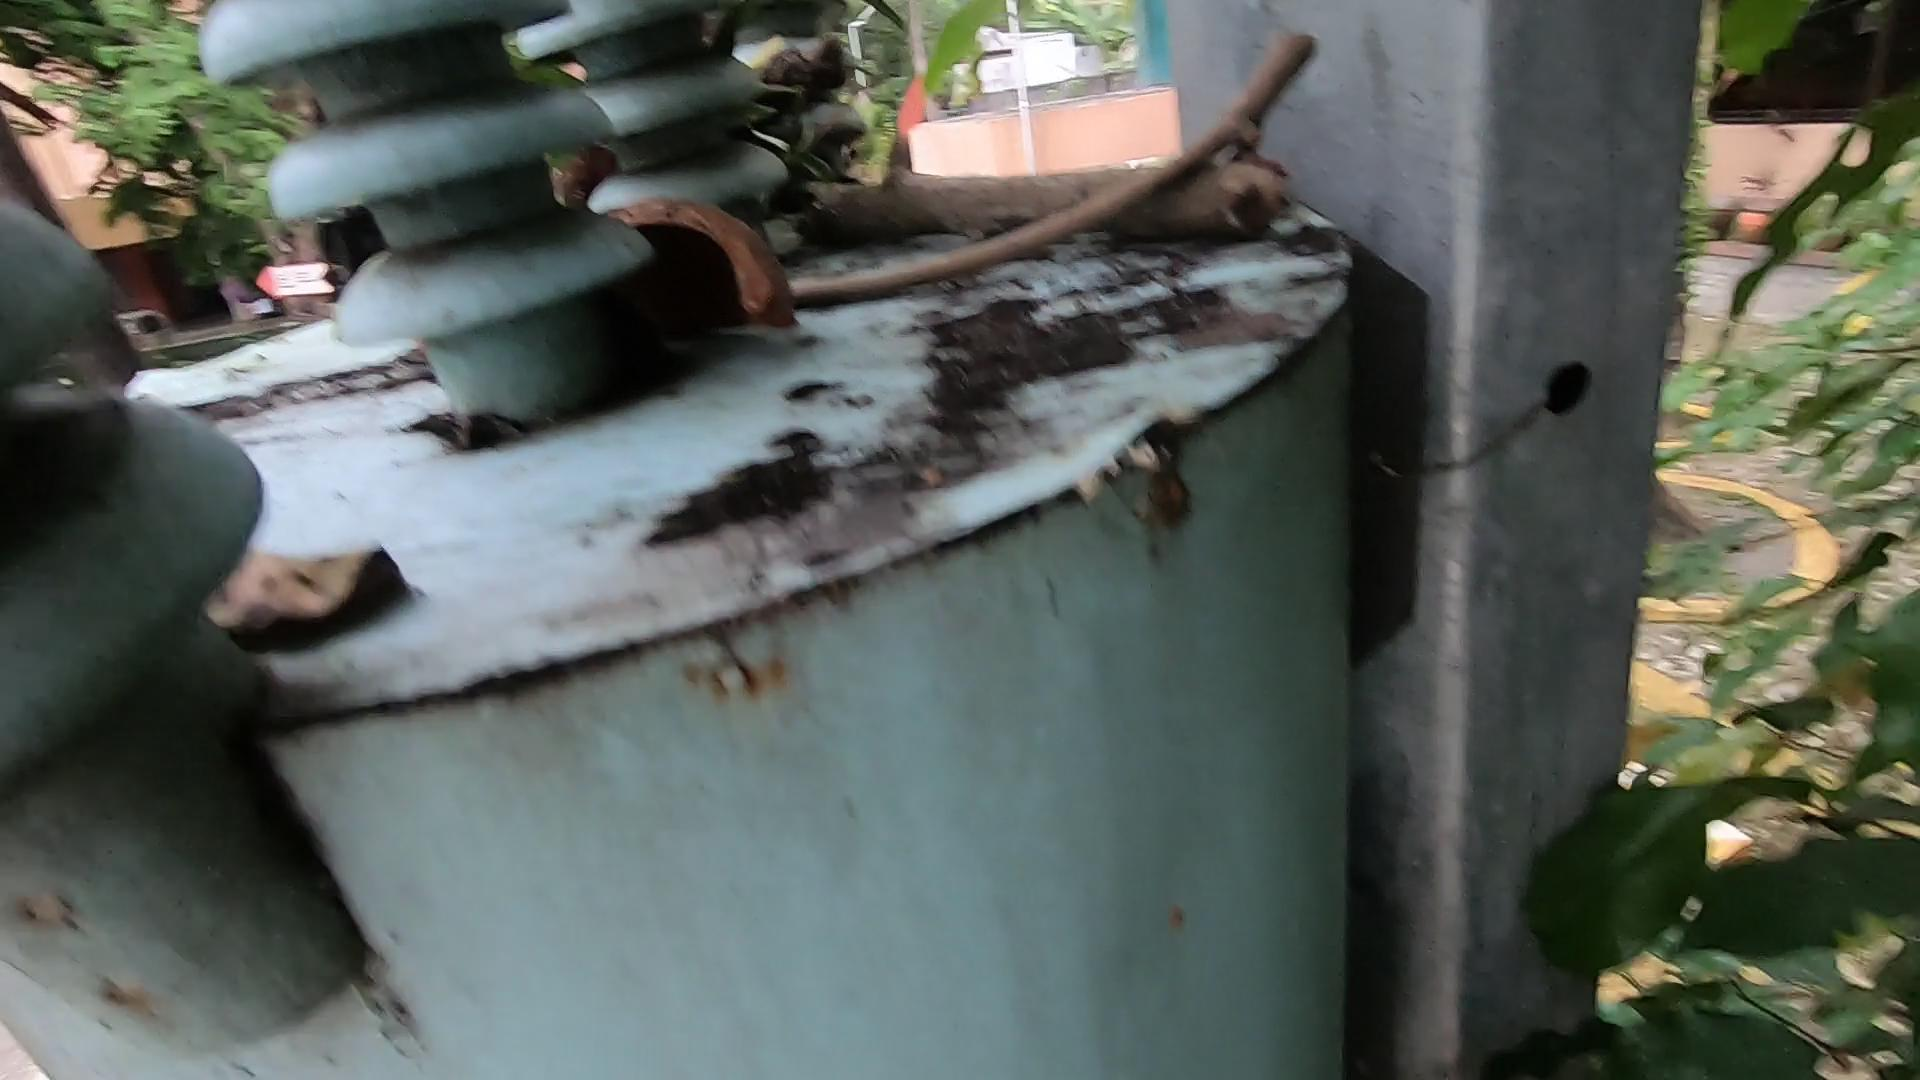branch with leaves: (882, 1, 1323, 282)
leaf: (249, 480, 429, 686)
mahogany fruit: (620, 179, 862, 371)
tree branch: (724, 1, 1327, 324)
